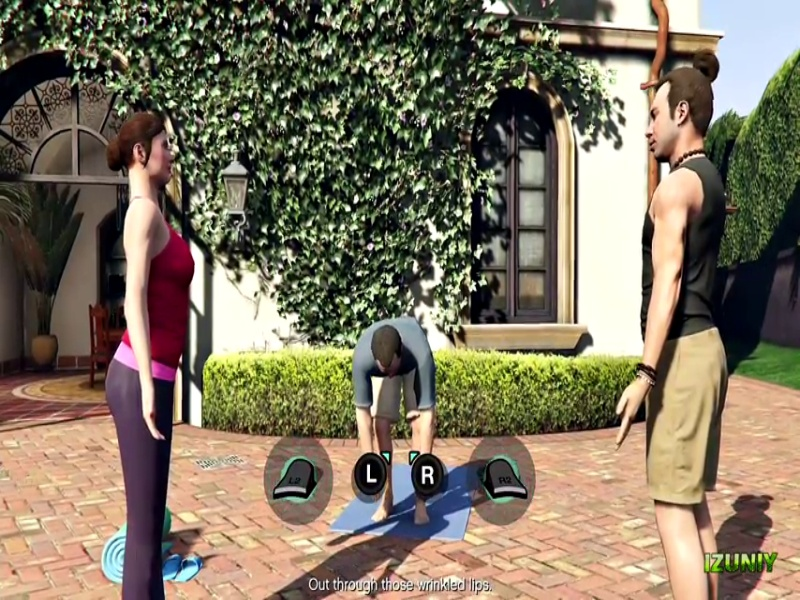licenseplate: (195, 95, 600, 119)
